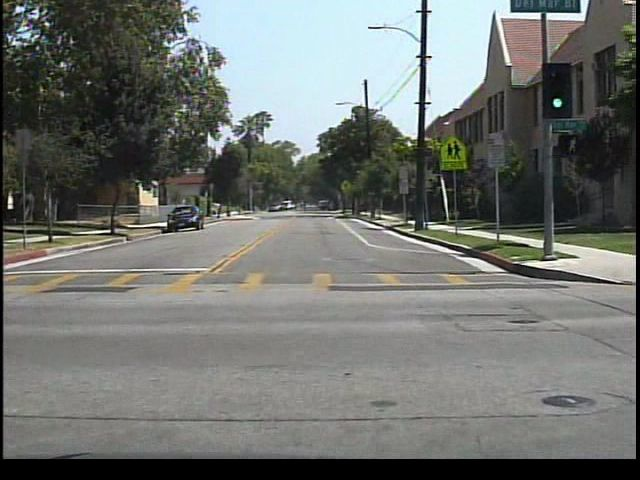person: (298, 196, 313, 214)
